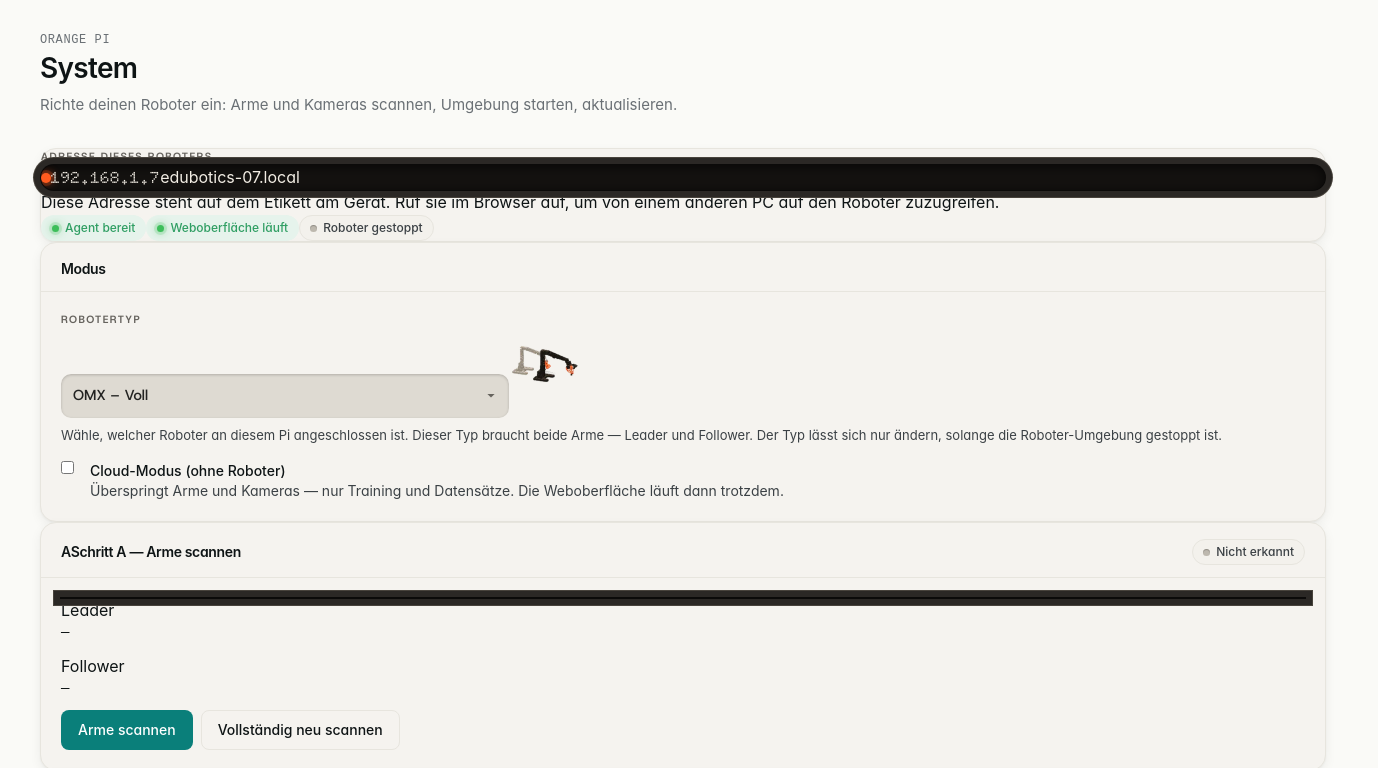
Test: SystemPage — an omx_full Pi is unchanged › keeps the both-arms scan help
The image size is (1378, 768).
Click the button "Arme scannen": coordinates (127, 730) [61,710,193,750]
(page scrolled)
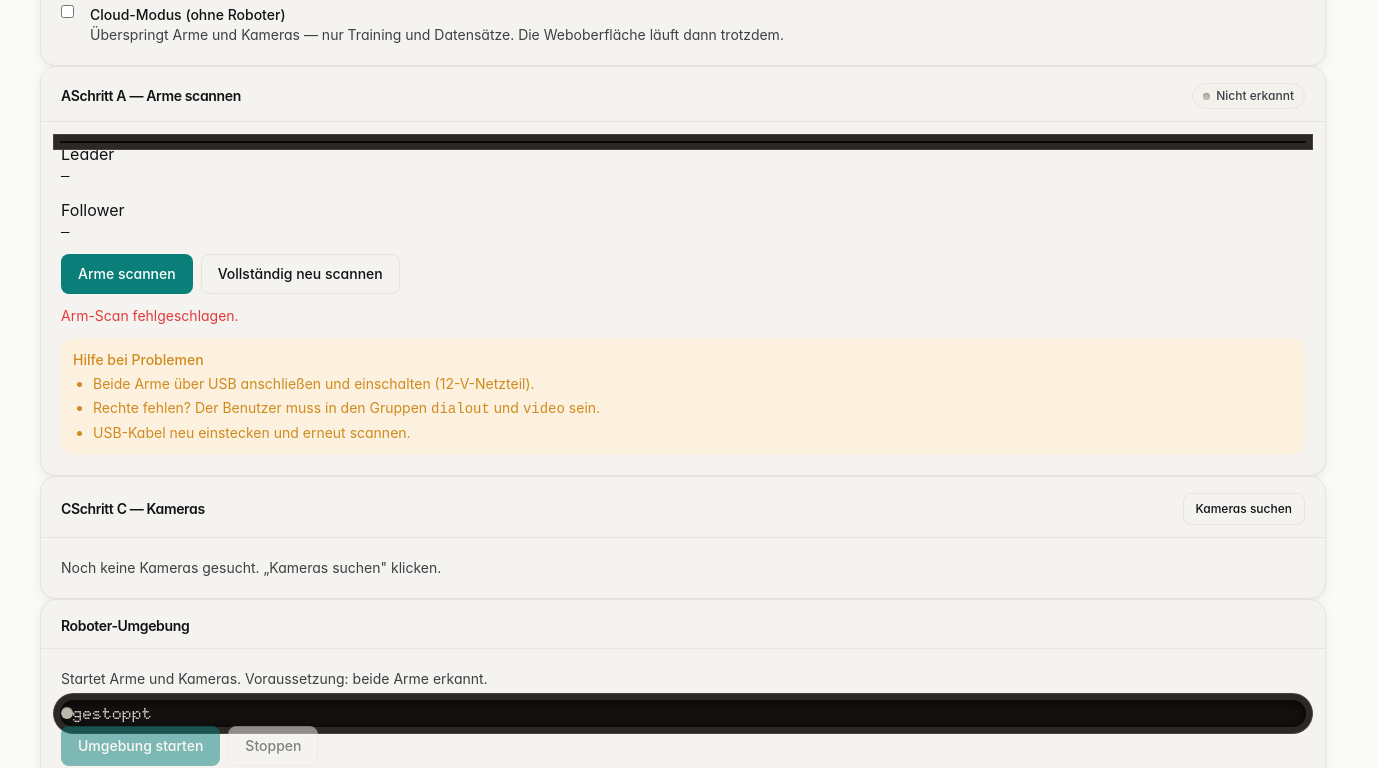
Expected: the list item "Beide Arme über USB anschließen und einschalten (12-V-Netzteil)." is shown, [93,376,535,392]
